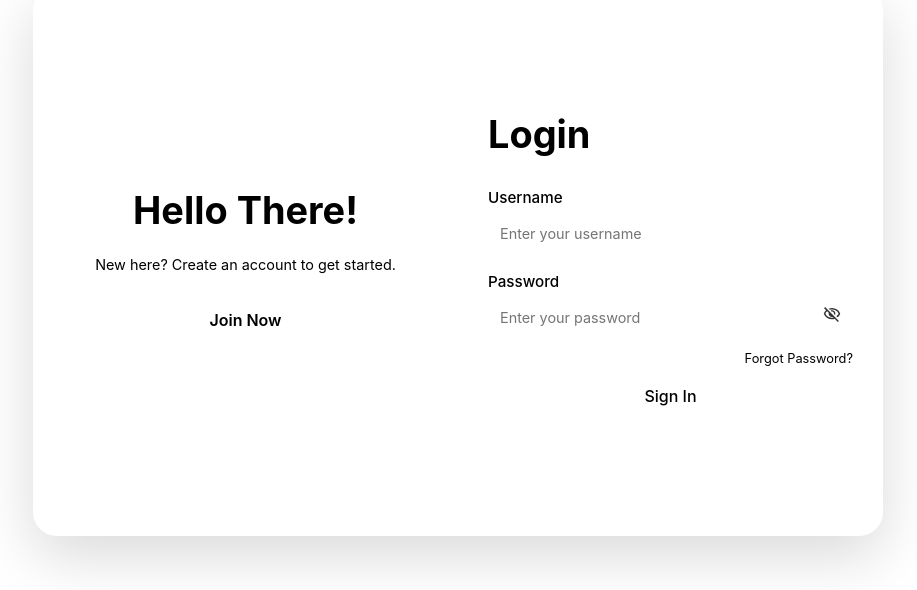
Test case: AccessComponent › Login › should show an error message on unknown login API errors
Step 1. Type "johndoe" into the field labelled "Username" → (670, 233), box [488,215,853,252]
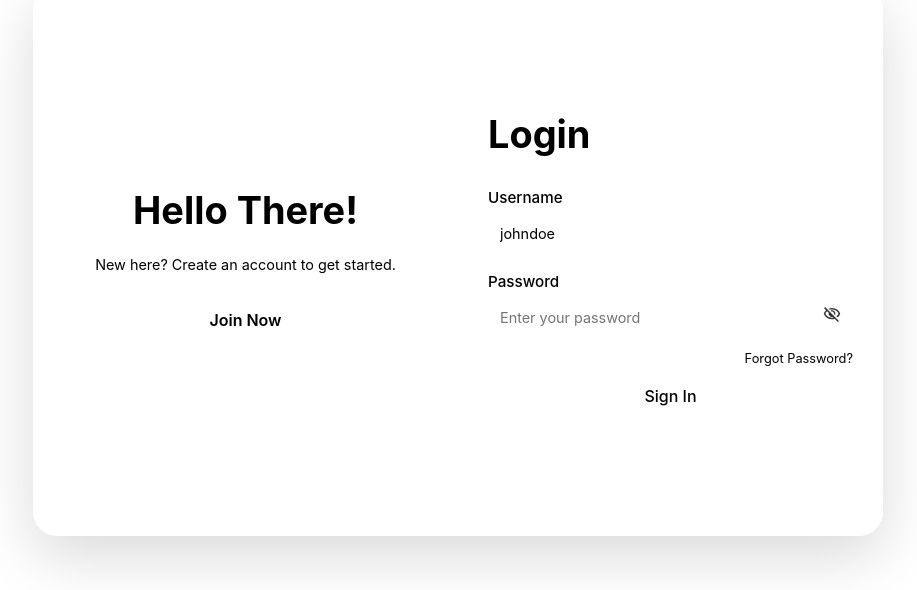
Step 2. Type "j123456!" into the password field labelled "Password" → (670, 317), box [488,299,853,336]
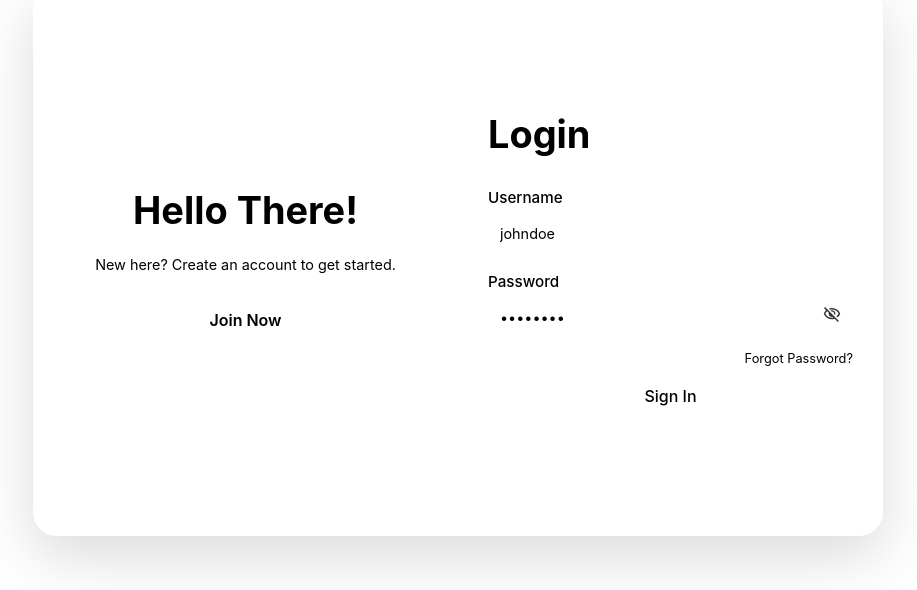
Step 3. Click the button "Sign In" → click(670, 396), box [622,376,719,416]
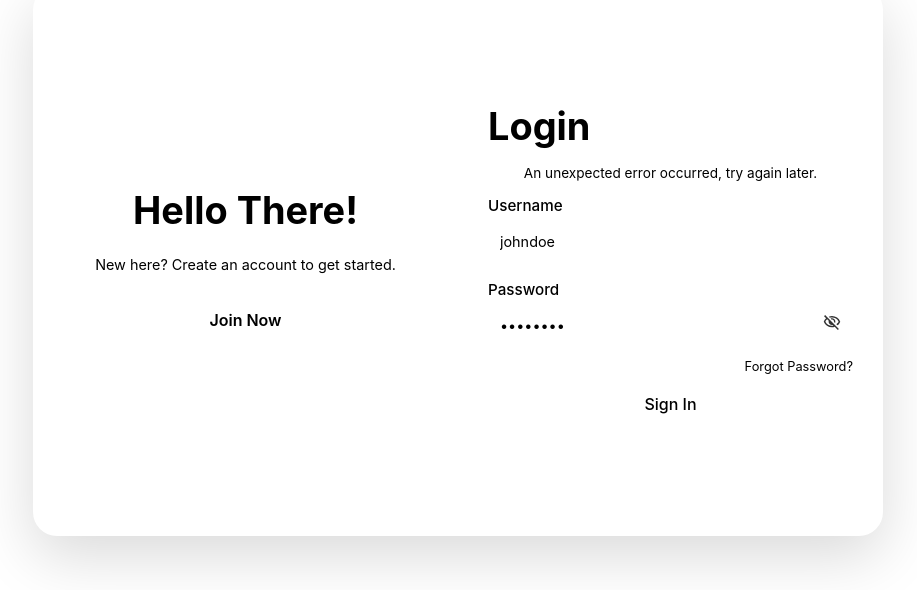
Expected: the text "An unexpected error occurred, try again later." is shown, [524,165,817,181]
Expected: the text with class "general" reads "An unexpected error occurred, try again later.", [524,165,817,181]
